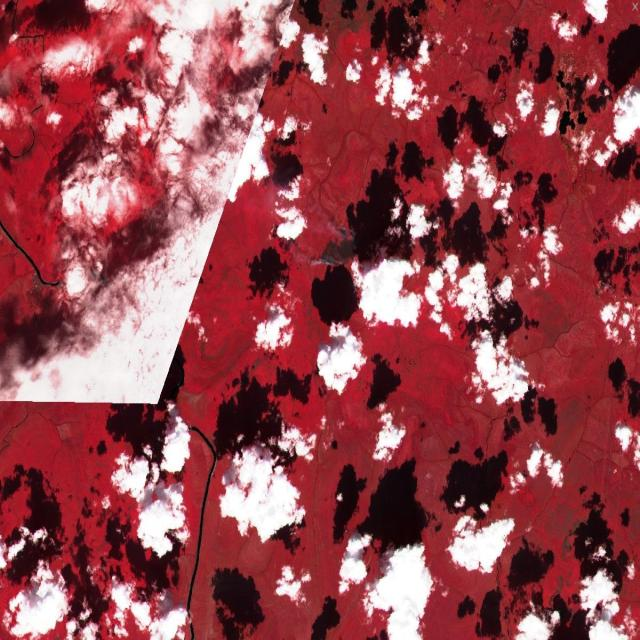fire: (308, 216, 369, 286)
